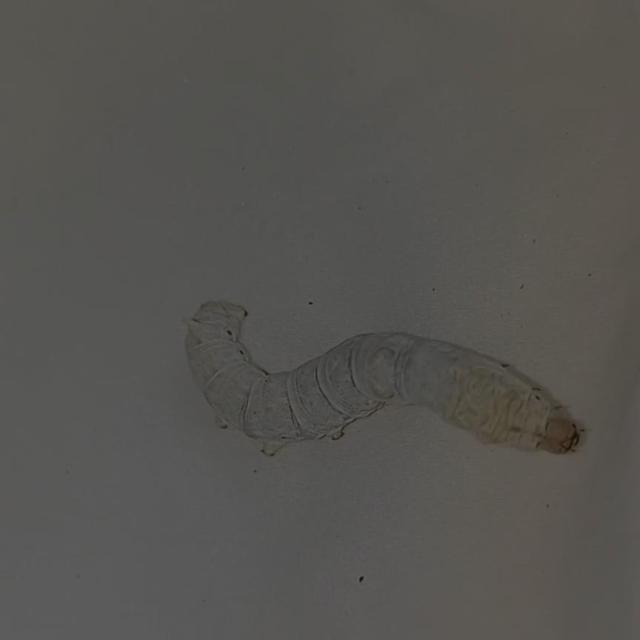Healthy: (165, 274, 590, 519)
